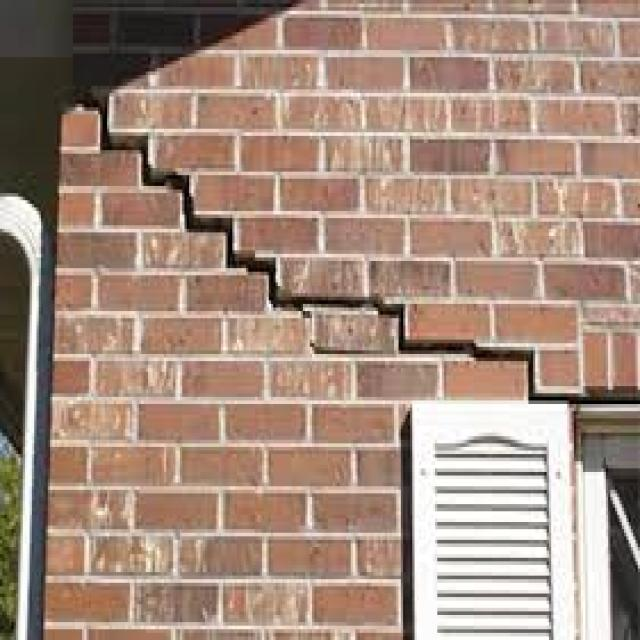Crack: (73, 82, 638, 404)
